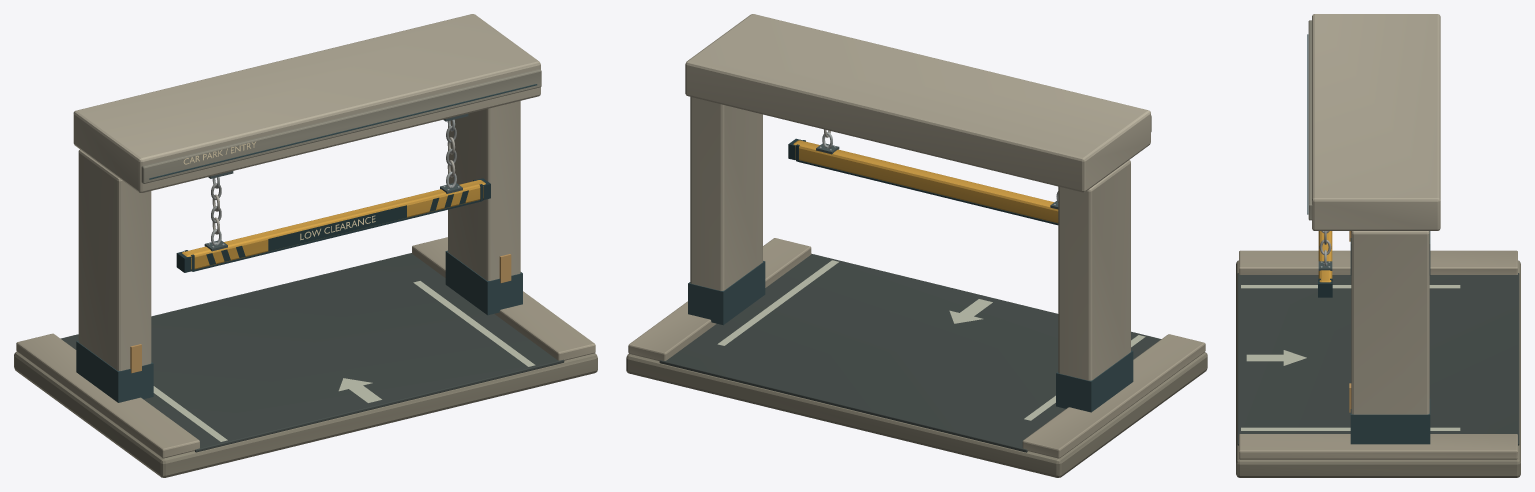
Rendered from carpark-suspended-height-clearance-bar.glb.
3 views of the same model, side by side, from view 1: azimuth 30°, elevation 25°; view 2: azimuth 150°, elevation 25°; view 3: azimuth 270°, elevation 25° (orthographic). The views are drawn at different scales.
Parts seen in each view (by area): view 1: Continuous original asphalt roadway texture, Real overhead concrete anchorage lintel, One solid entrance pier, Exhibit slab section with pale sawn side, One solid entrance pier.001, Narrow pressed fascia overlay above and behind fixture, Raised boundary threshold curb, Raised boundary threshold curb.001, Closed suspended warning bar core, Near-visible slate pier plinth band.001, Near-visible slate pier plinth band, Fictional unnumbered warning plate (+3 smaller); view 2: Continuous original asphalt roadway texture, Real overhead concrete anchorage lintel, One solid entrance pier, One solid entrance pier.001, Exhibit slab section with pale sawn side, Raised boundary threshold curb, Closed suspended warning bar core, Raised boundary threshold curb.001, Near-visible slate pier plinth band.001, Near-visible slate pier plinth band, Simple unnumbered edge cue on original floor.001, Lower rolled lip of actual solid bar section; view 3: Continuous original asphalt roadway texture, Real overhead concrete anchorage lintel, One solid entrance pier.001, Raised boundary threshold curb.001, Exhibit slab section with pale sawn side, Raised boundary threshold curb, Near-visible slate pier plinth band.001, Narrow pressed fascia overlay above and behind fixture, Simple unnumbered edge cue on original floor.001, Closed suspended warning bar core, Simple unnumbered edge cue on original floor, Small roof join horizontal reveal.
Part boxes in pixels (x1,y1,x2,y2): Continuous original asphalt roadway texture: [60, 253, 564, 452]; Real overhead concrete anchorage lintel: [73, 14, 540, 192]; One solid entrance pier: [78, 149, 151, 370]; Exhibit slab section with pale sawn side: [14, 351, 597, 477]; One solid entrance pier.001: [448, 101, 520, 280]; Narrow pressed fascia overlay above and behind fixture: [141, 69, 541, 183]; Raised boundary threshold curb: [16, 333, 199, 458]; Raised boundary threshold curb.001: [412, 237, 595, 360]; Closed suspended warning bar core: [182, 180, 485, 270]; Near-visible slate pier plinth band.001: [445, 250, 522, 315]; Near-visible slate pier plinth band: [76, 341, 153, 402]; Fictional unnumbered warning plate: [268, 205, 406, 251]; Continuous original asphalt roadway texture: [659, 253, 1161, 452]; Real overhead concrete anchorage lintel: [685, 14, 1150, 192]; One solid entrance pier: [1058, 160, 1130, 380]; One solid entrance pier.001: [690, 97, 762, 290]; Exhibit slab section with pale sawn side: [626, 352, 1207, 477]; Raised boundary threshold curb: [1022, 334, 1205, 458]; Closed suspended warning bar core: [793, 140, 1058, 223]; Raised boundary threshold curb.001: [628, 238, 811, 360]; Near-visible slate pier plinth band.001: [688, 261, 765, 325]; Near-visible slate pier plinth band: [1056, 350, 1133, 412]; Simple unnumbered edge cue on original floor.001: [717, 260, 838, 345]; Lower rolled lip of actual solid bar section: [797, 160, 1058, 225]; Continuous original asphalt roadway texture: [1237, 273, 1519, 445]; Real overhead concrete anchorage lintel: [1312, 14, 1440, 230]; One solid entrance pier.001: [1351, 231, 1429, 414]; Raised boundary threshold curb.001: [1239, 434, 1517, 459]; Exhibit slab section with pale sawn side: [1236, 260, 1520, 477]; Raised boundary threshold curb: [1239, 250, 1517, 274]; Near-visible slate pier plinth band.001: [1350, 399, 1430, 444]; Narrow pressed fascia overlay above and behind fixture: [1308, 20, 1312, 220]; Simple unnumbered edge cue on original floor.001: [1241, 427, 1460, 430]; Closed suspended warning bar core: [1318, 231, 1332, 282]; Simple unnumbered edge cue on original floor: [1241, 285, 1460, 288]; Small roof join horizontal reveal: [1307, 34, 1308, 214].
Bounding box in the file's own units: 4.22 × 2.65 × 2.51.
